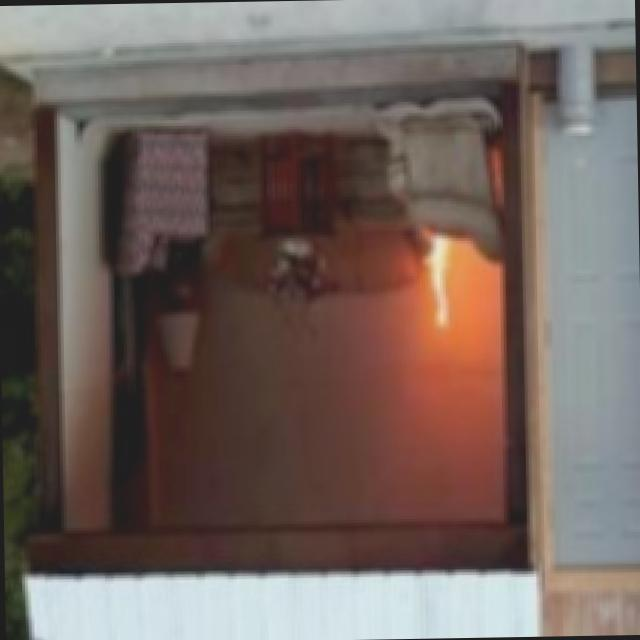fire: (408, 237, 471, 330)
